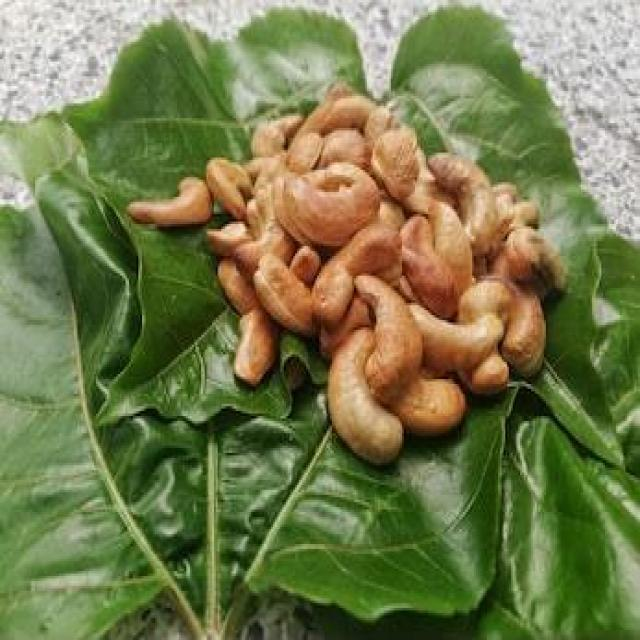cashew: (366, 258, 426, 396), (272, 170, 381, 239), (322, 345, 370, 476), (138, 174, 213, 238), (376, 118, 428, 200), (432, 302, 500, 363), (450, 155, 495, 242), (203, 147, 248, 216), (432, 196, 461, 293), (321, 80, 370, 136)
